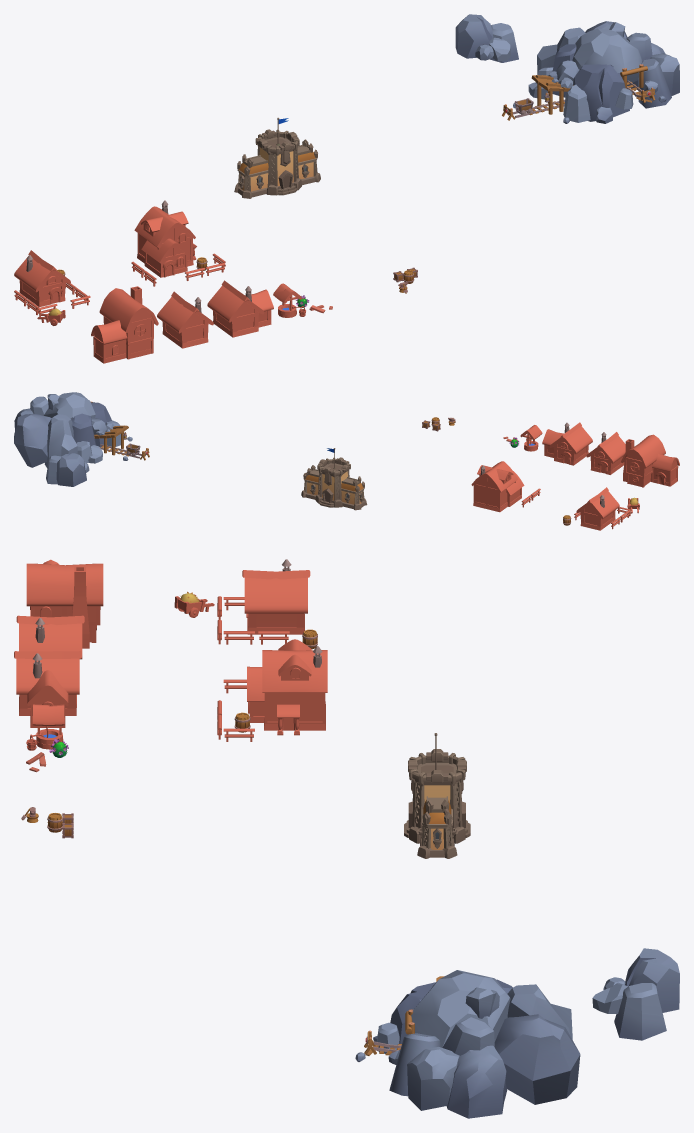
File: Map Unity Part 2 .fbx
3 views of the same model, one above another, from view 1: azimuth 30°, elevation 25°; view 2: azimuth 150°, elevation 25°; view 3: azimuth 270°, elevation 25° (orthographic). The views are drawn at different scales.
Parts seen in each view (by area): view 1: Plane.020, Cube, Cube.007, Cube.002, Circle.031, Cube.020, Cube.008, Cylinder.018, Cylinder.068, Circle.038, Circle.034, Circle.029 (+3 smaller); view 2: Plane.020, Cube, Cube.007, Circle.030, Cube.002, Cube.008, Cube.020, Circle.029, Circle.031, Cylinder.068, Circle.028, Cylinder (+4 smaller); view 3: Cube.007, Circle.030, Plane.020, Cube, Cube.008, Circle.031, Cube.002, Circle.032, Circle.035, Cube.020, Circle.043, Cylinder.068 (+5 smaller).
Part boxes in pixels (x1=…): Plane.020: x1=234, y1=117, x2=320, y2=198; Cube: x1=91, y1=286, x2=158, y2=363; Cube.007: x1=134, y1=200, x2=196, y2=277; Cube.002: x1=207, y1=280, x2=273, y2=337; Circle.031: x1=572, y1=28, x2=642, y2=85; Cube.020: x1=157, y1=291, x2=213, y2=348; Cube.008: x1=14, y1=250, x2=70, y2=307; Cylinder.018: x1=573, y1=64, x2=629, y2=121; Cylinder.068: x1=455, y1=14, x2=493, y2=58; Circle.038: x1=638, y1=58, x2=671, y2=108; Circle.034: x1=563, y1=84, x2=590, y2=122; Circle.029: x1=537, y1=27, x2=585, y2=97; Plane.020: x1=301, y1=448, x2=367, y2=510; Cube: x1=621, y1=434, x2=679, y2=487; Cube.007: x1=471, y1=461, x2=524, y2=512; Circle.030: x1=14, y1=414, x2=51, y2=467; Cube.002: x1=542, y1=422, x2=592, y2=465; Cube.008: x1=576, y1=487, x2=619, y2=530; Cube.020: x1=586, y1=432, x2=625, y2=474; Circle.029: x1=44, y1=414, x2=77, y2=467; Circle.031: x1=44, y1=392, x2=95, y2=419; Cylinder.068: x1=56, y1=453, x2=86, y2=486; Circle.028: x1=71, y1=413, x2=96, y2=445; Cylinder: x1=520, y1=425, x2=542, y2=451; Cube.007: x1=247, y1=639, x2=327, y2=735; Circle.030: x1=494, y1=1014, x2=580, y2=1104; Plane.020: x1=404, y1=733, x2=470, y2=858; Cube: x1=26, y1=559, x2=103, y2=648; Cube.008: x1=242, y1=559, x2=310, y2=634; Circle.031: x1=411, y1=970, x2=510, y2=1047; Cube.002: x1=14, y1=651, x2=81, y2=727; Circle.032: x1=446, y1=1045, x2=507, y2=1118; Circle.035: x1=407, y1=1047, x2=459, y2=1110; Cube.020: x1=16, y1=615, x2=84, y2=659; Circle.043: x1=614, y1=983, x2=666, y2=1040; Cylinder.068: x1=625, y1=948, x2=679, y2=1012.
Bounding box in the file's own units: 23.83 × 2.42 × 13.05.
